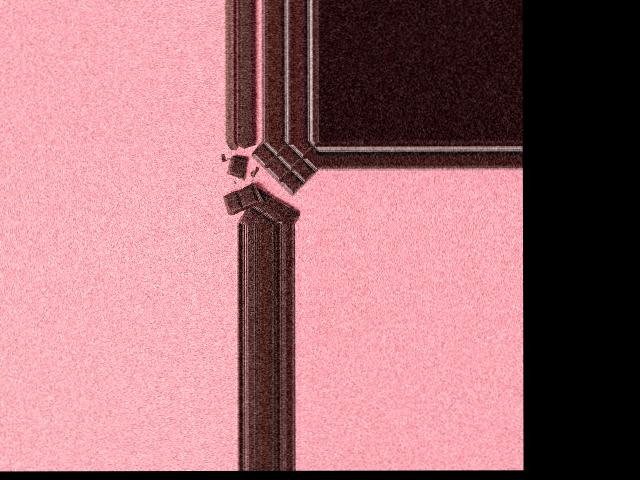chocolate: (228, 141, 320, 219)
